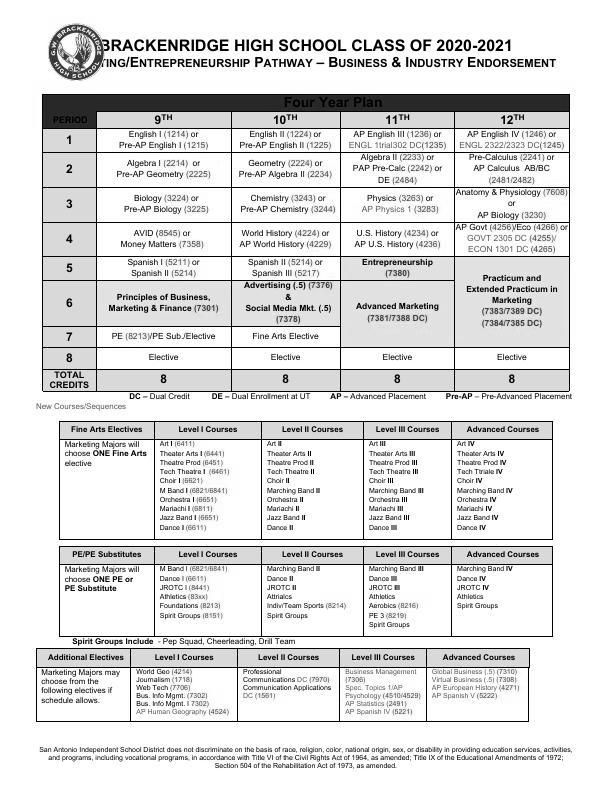table: (39, 90, 577, 402), (57, 419, 557, 645), (33, 645, 533, 726)
text: (97, 33, 560, 72), (38, 744, 581, 774), (34, 402, 129, 412)
